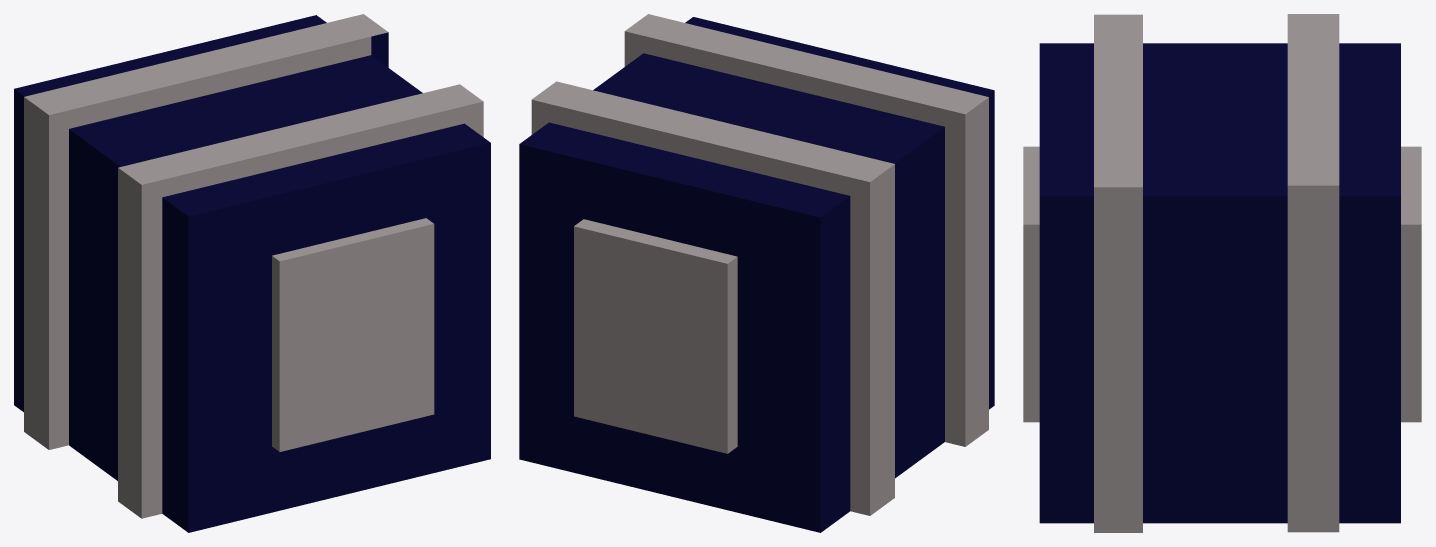
File: generator.fbx
The picture shows the model from 3 angles, left to right: view 1: azimuth 30°, elevation 25°; view 2: azimuth 150°, elevation 25°; view 3: azimuth 270°, elevation 25°; orthographic projection. The views are drawn at different scales.
Visible parts, largest first — view 1: Cube; view 2: Cube; view 3: Cube.
Boxes of the visible parts, box(x1,y1,x2,y2) form: Cube: box(14, 14, 490, 532); Cube: box(519, 14, 994, 532); Cube: box(1023, 14, 1421, 532).
Bounding box in the file's own units: 186 × 174 × 181.
